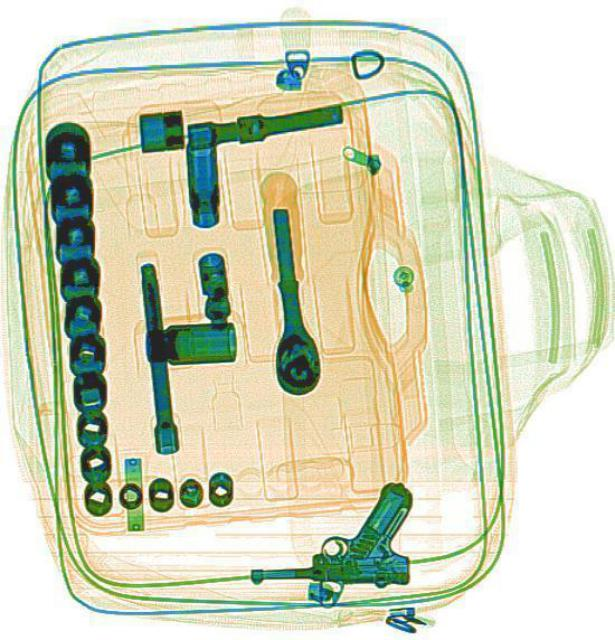Gun: (248, 482, 411, 584)
